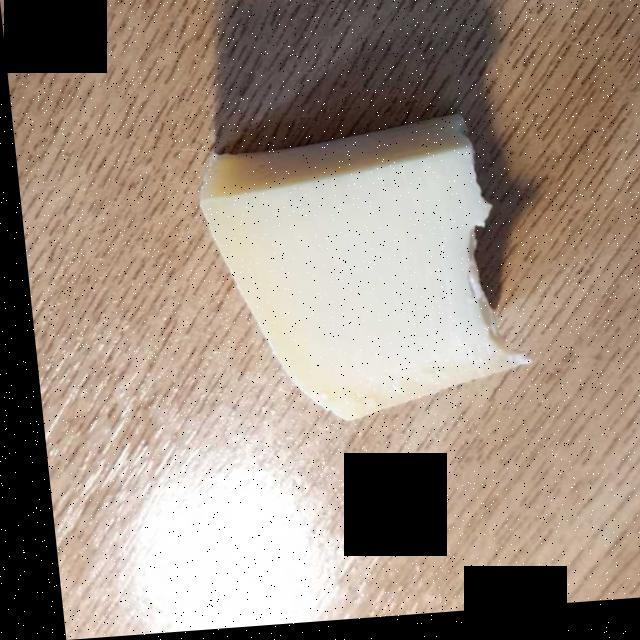gruyere: (198, 128, 508, 422)
